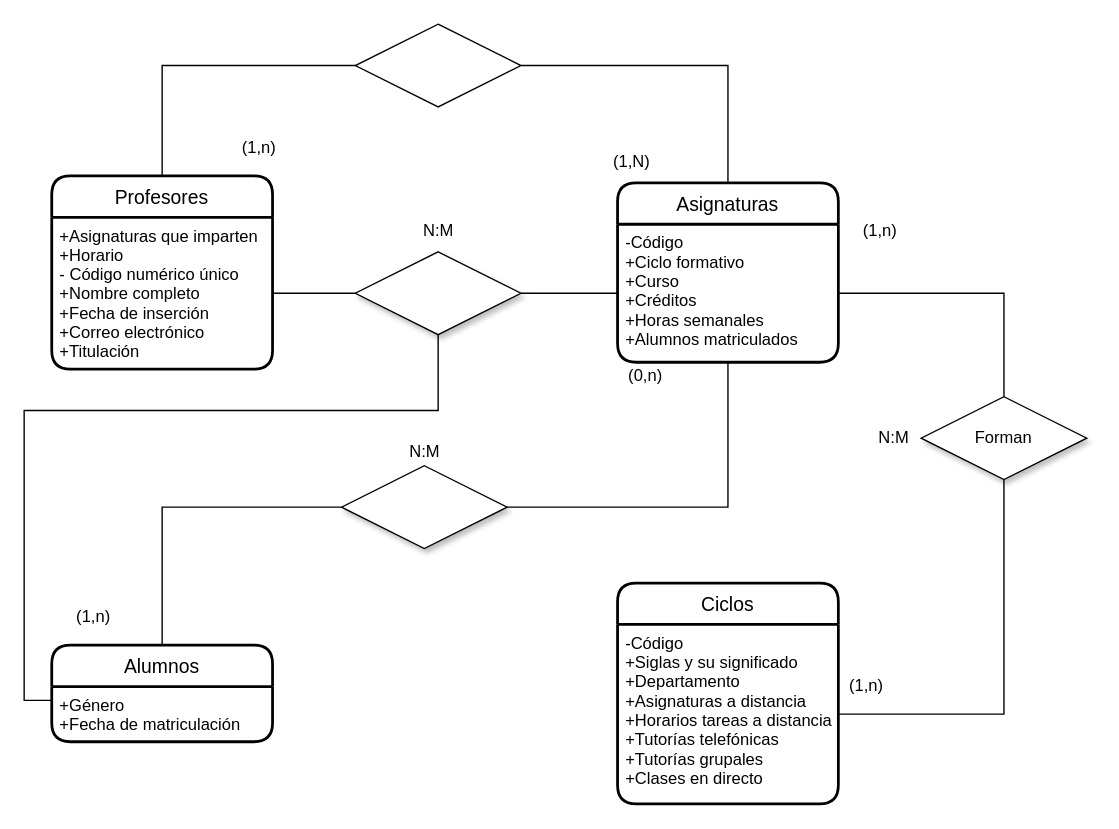
Some shapes in this 1119 by 829 pixel diagram are drawn without their labels. The shapes that lost their labels are listed below. From the top down, each one's centre as x and y in pixels, then its label:
At pixel 437 65: "Capacitado".
At pixel 438 294: "Docencia".
At pixel 425 508: "Matriculados".
